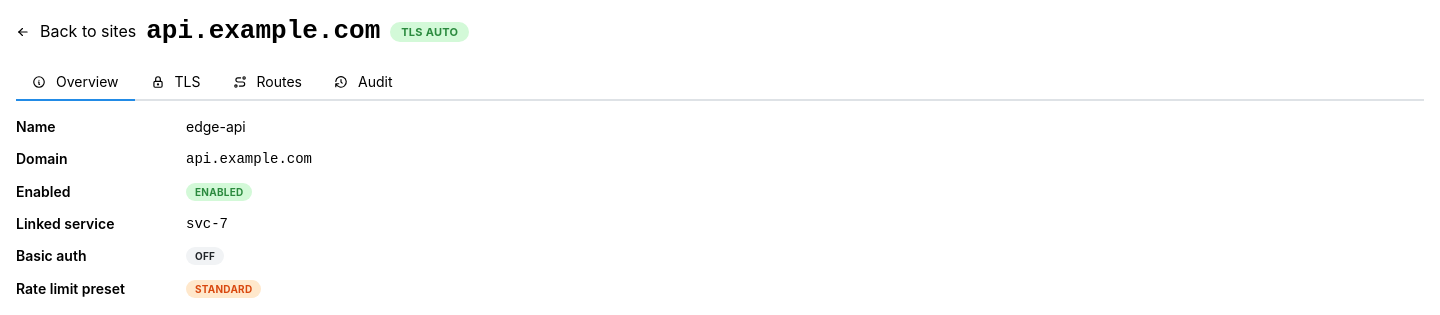
Scenario: SiteFullPage › TLS tab shows ACME info for `auto` mode
Check: the element with test id "site-full-page" is shown, box [16,16,469,298]
Click the tab "TLS" at (176, 83), box [135,65,216,101]
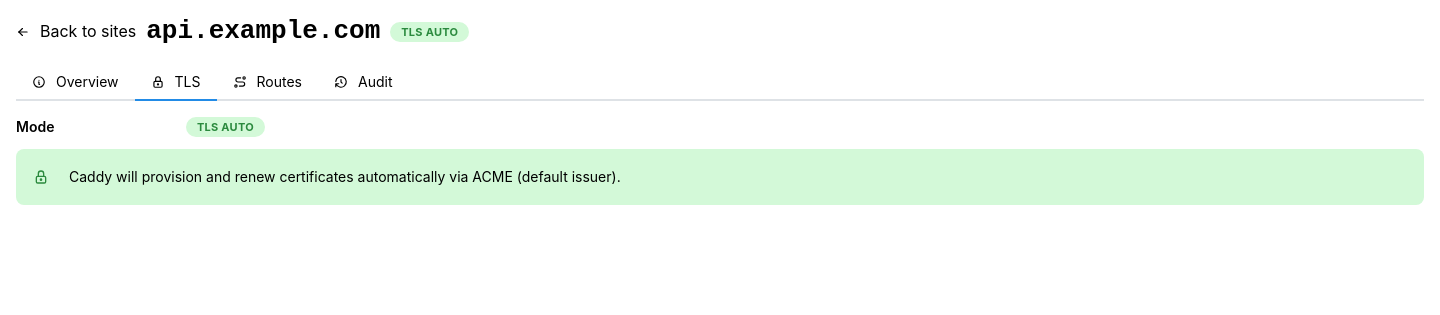
Check: the element with test id "tab-tls" is shown, box [16,117,1424,205]
Check: the element with test id "tab-tls" shows "ACME", box [69,168,621,185]
